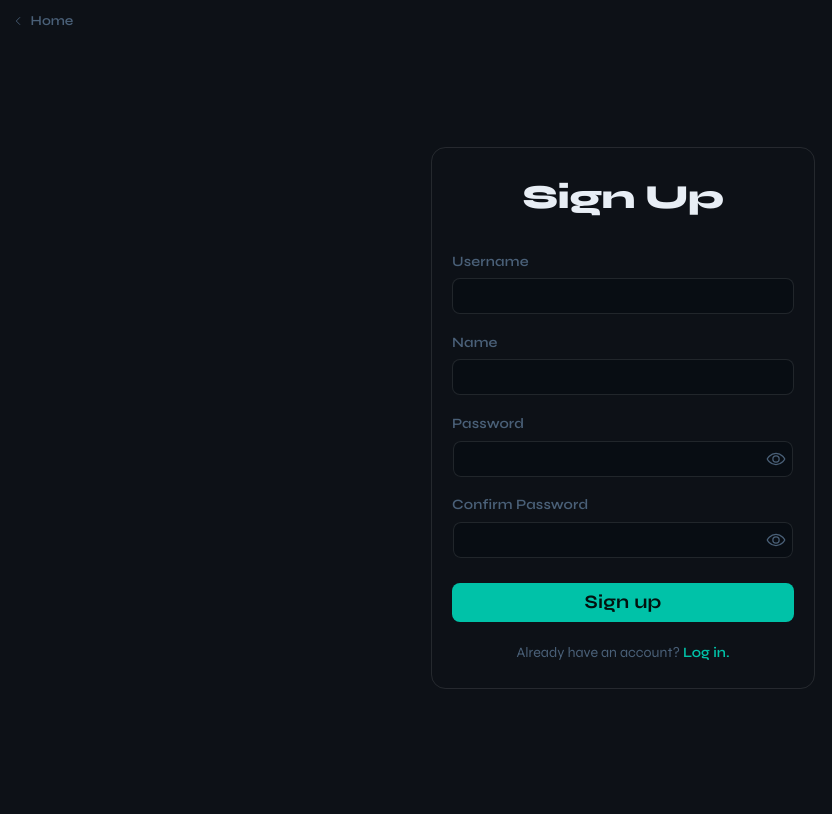
Scenario: Test suite for the password field within the signup form › Can properly validate the username field
Expected: the form is shown, [431,147,815,689]
Empty field
Click the button "Sign up": (623, 603) [452,583,794,622]
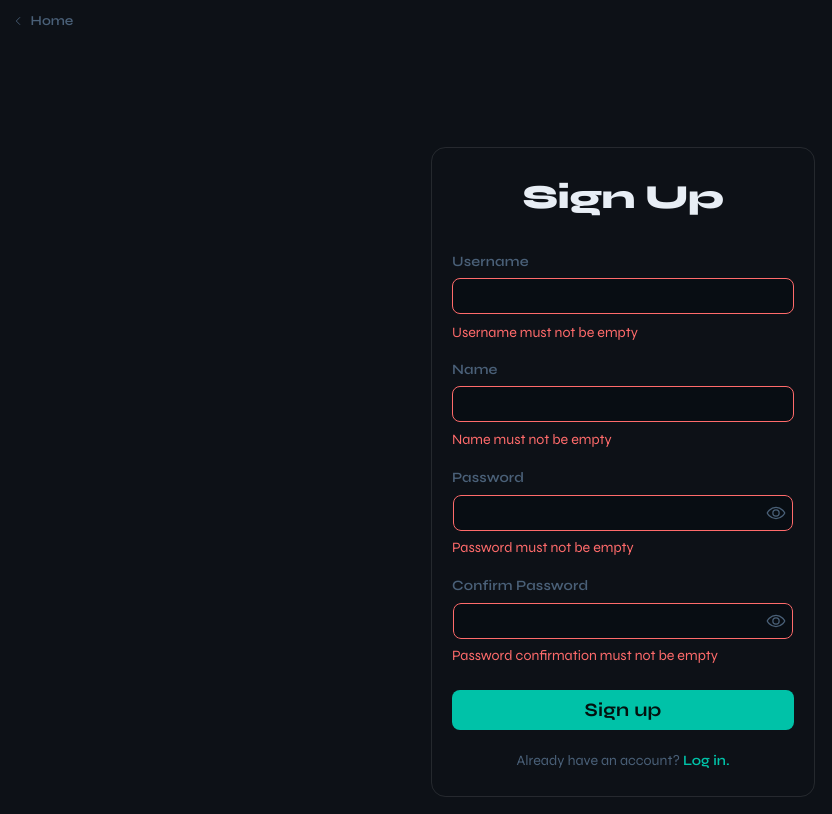
Expected: the text "Password must not be empty" is shown, [452,539,634,556]
Too short
In the password field labelled "Password": (623, 513) [453,495,793,531], type "1"
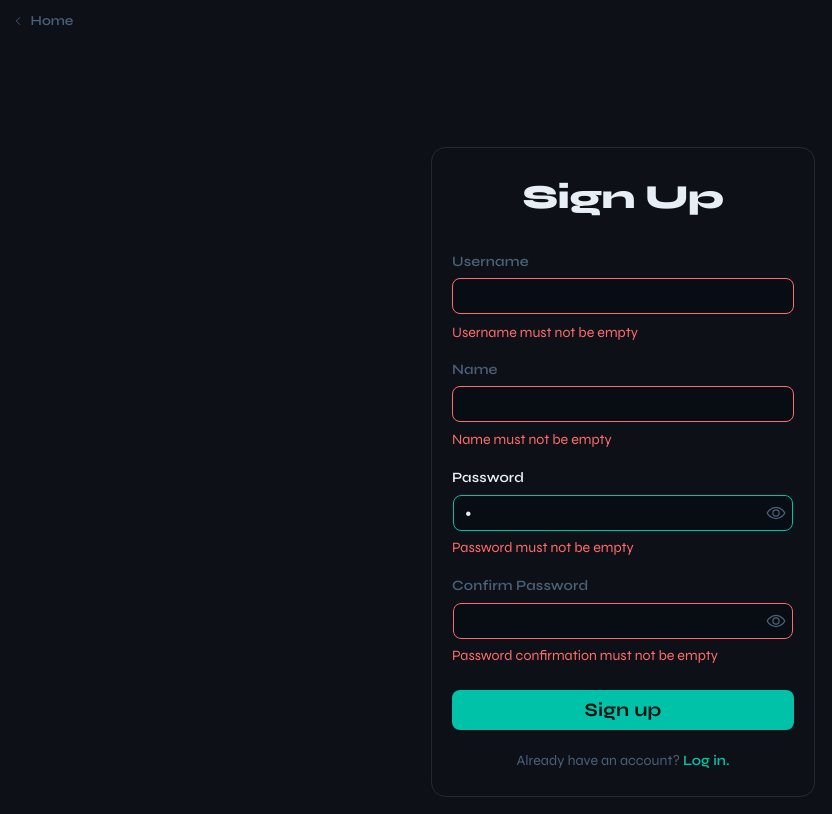
Click the button "Sign up": (623, 710) [452,690,794,730]
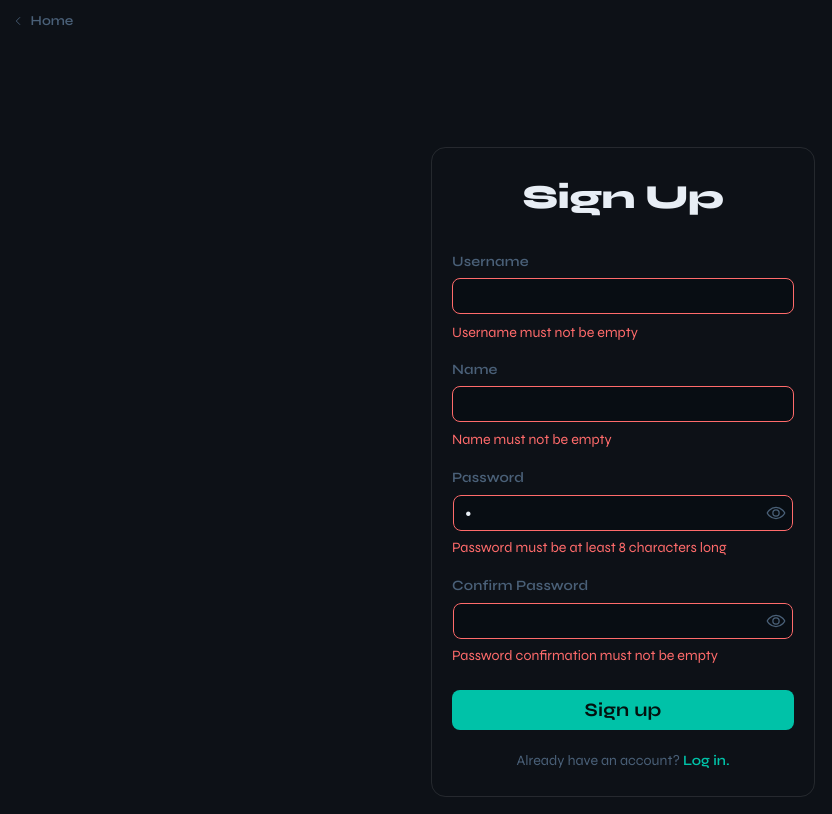
Expected: the text "Password must be at least 8 characters long" is shown, [452,539,727,556]
Clear the password field labelled "Password": (623, 513) [453,495,793,531]
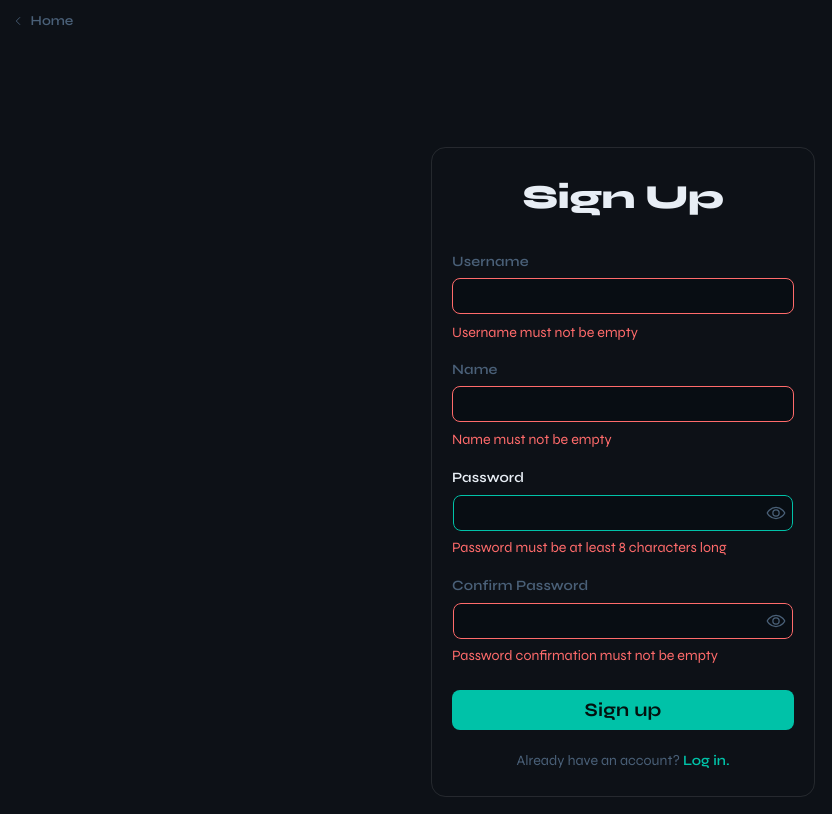
Valid password
In the password field labelled "Password": (623, 513) [453,495,793,531], type "qw12qw34"
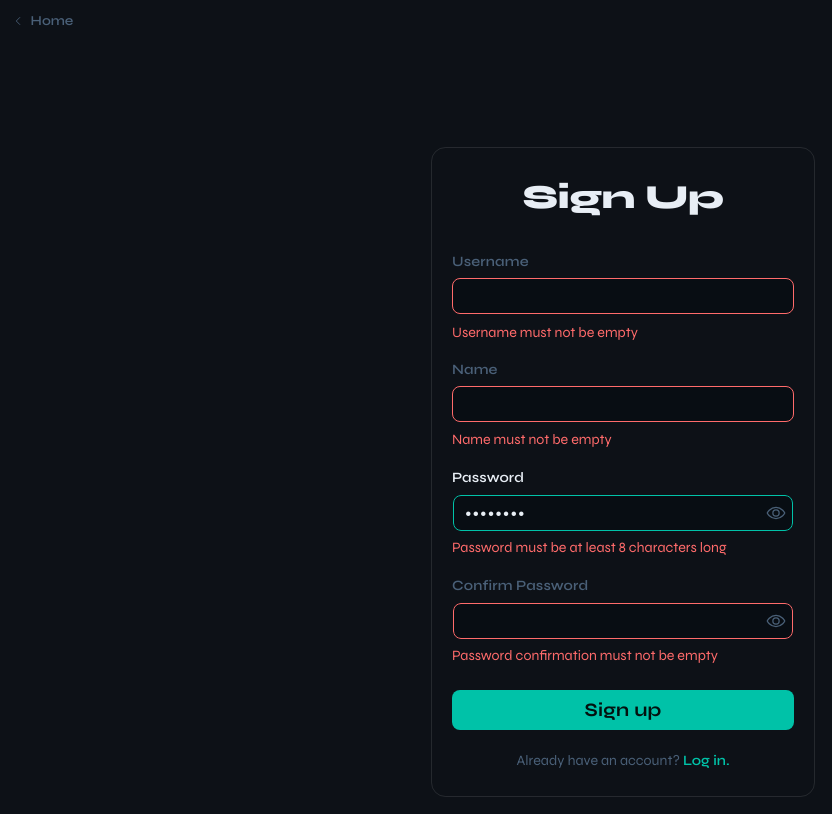
Click the button "Sign up": (623, 710) [452,690,794,730]
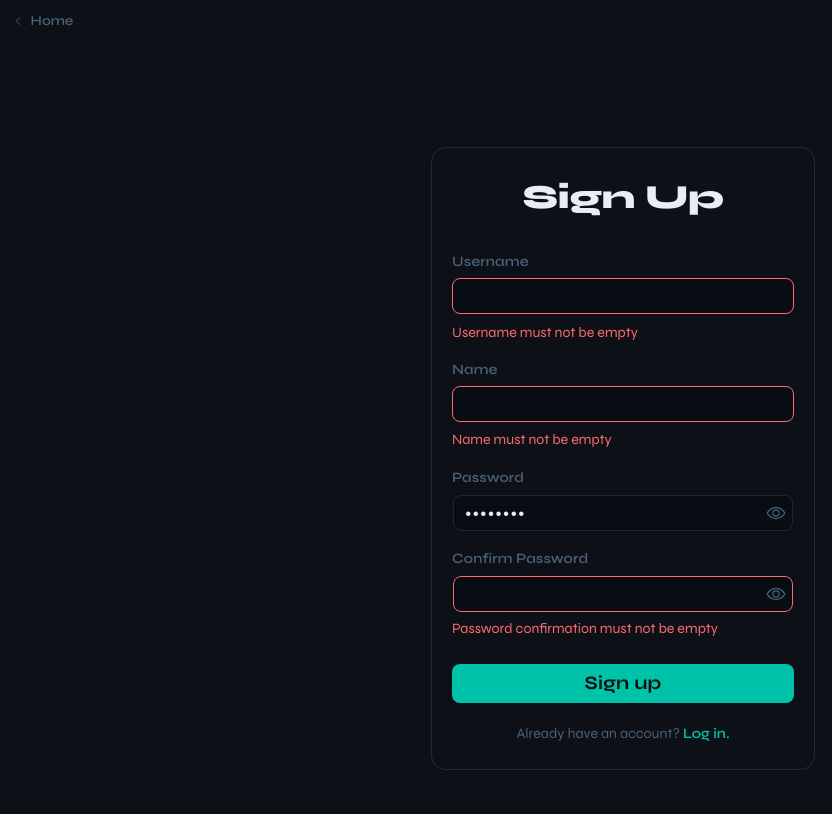
Expected: the text with test id "password-inline-error" is gone
